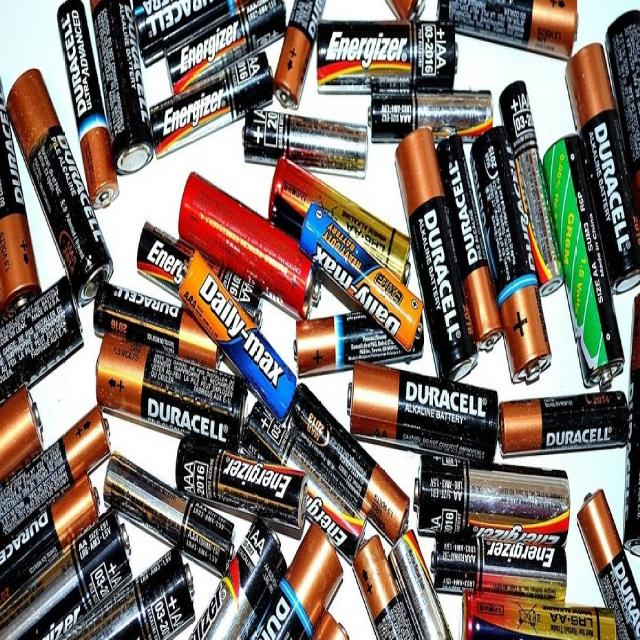non-organic waste: (6, 68, 113, 304), (392, 122, 480, 387), (389, 128, 478, 379), (468, 123, 553, 384), (540, 132, 623, 387), (297, 198, 427, 360), (179, 247, 296, 427), (565, 42, 640, 296), (0, 504, 134, 640), (96, 334, 245, 454), (102, 454, 235, 578), (346, 357, 500, 460), (148, 46, 276, 166), (435, 134, 505, 352), (0, 402, 109, 539), (410, 451, 569, 541), (178, 432, 307, 540), (498, 84, 564, 294), (0, 469, 99, 608), (56, 0, 118, 210), (428, 524, 568, 604), (573, 486, 640, 640), (318, 21, 460, 90), (498, 388, 626, 460), (238, 106, 369, 175), (462, 589, 623, 640), (368, 86, 496, 138)
